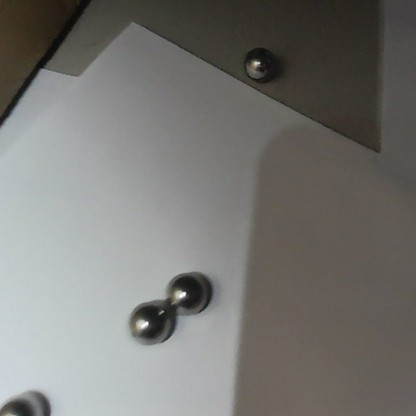ironball: (163, 262, 216, 316), (123, 299, 175, 346), (237, 41, 283, 85), (0, 387, 53, 414)
